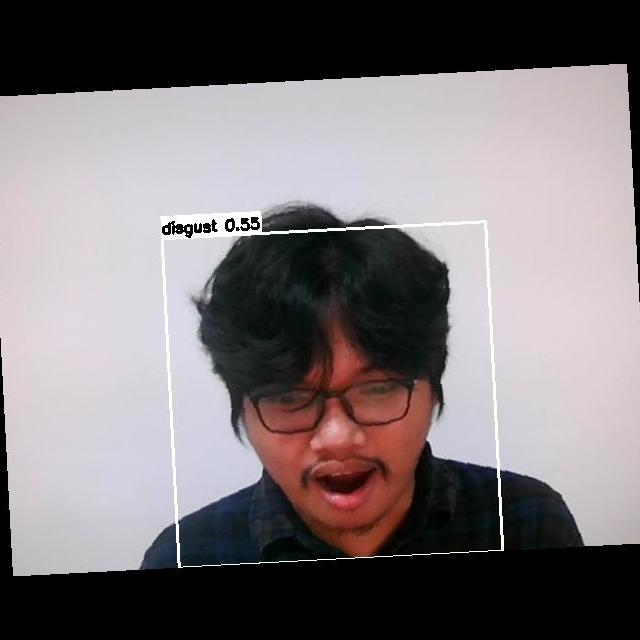Surprised: (234, 340, 436, 521)
